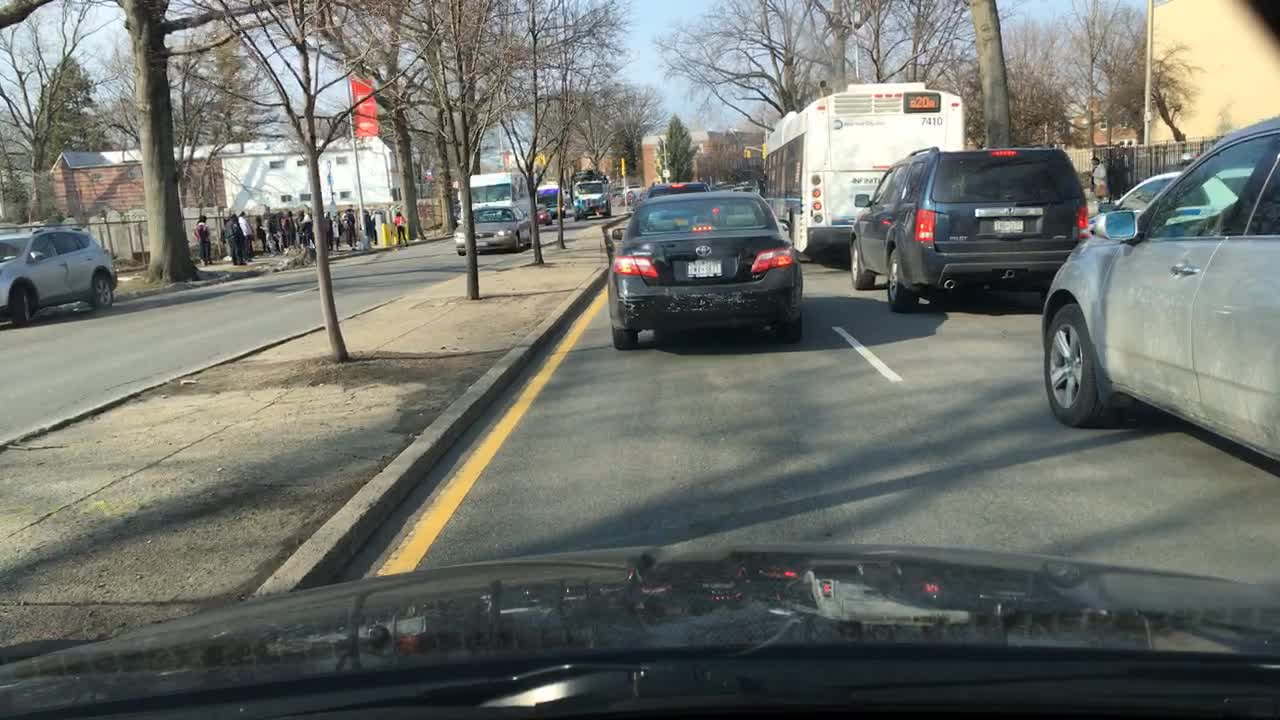bus: (760, 81, 967, 260), (450, 169, 536, 224)
car: (1044, 113, 1277, 467), (846, 142, 1089, 312), (604, 195, 806, 353), (1, 226, 119, 324), (1089, 167, 1261, 233), (454, 201, 534, 254), (647, 179, 708, 199), (618, 181, 645, 201), (722, 181, 752, 194), (534, 203, 552, 224)
person: (1087, 158, 1110, 213), (223, 211, 246, 262), (194, 217, 210, 263), (237, 210, 251, 258), (260, 203, 273, 253), (251, 213, 266, 254), (341, 206, 355, 247), (330, 206, 343, 249), (393, 206, 407, 244), (294, 210, 307, 249), (282, 204, 294, 246), (357, 206, 369, 247), (371, 208, 385, 240), (321, 210, 330, 249), (303, 210, 310, 249), (273, 213, 278, 253)
traffic sign: (534, 151, 543, 167), (618, 156, 625, 176)
truck: (568, 169, 613, 220), (536, 181, 564, 215)
